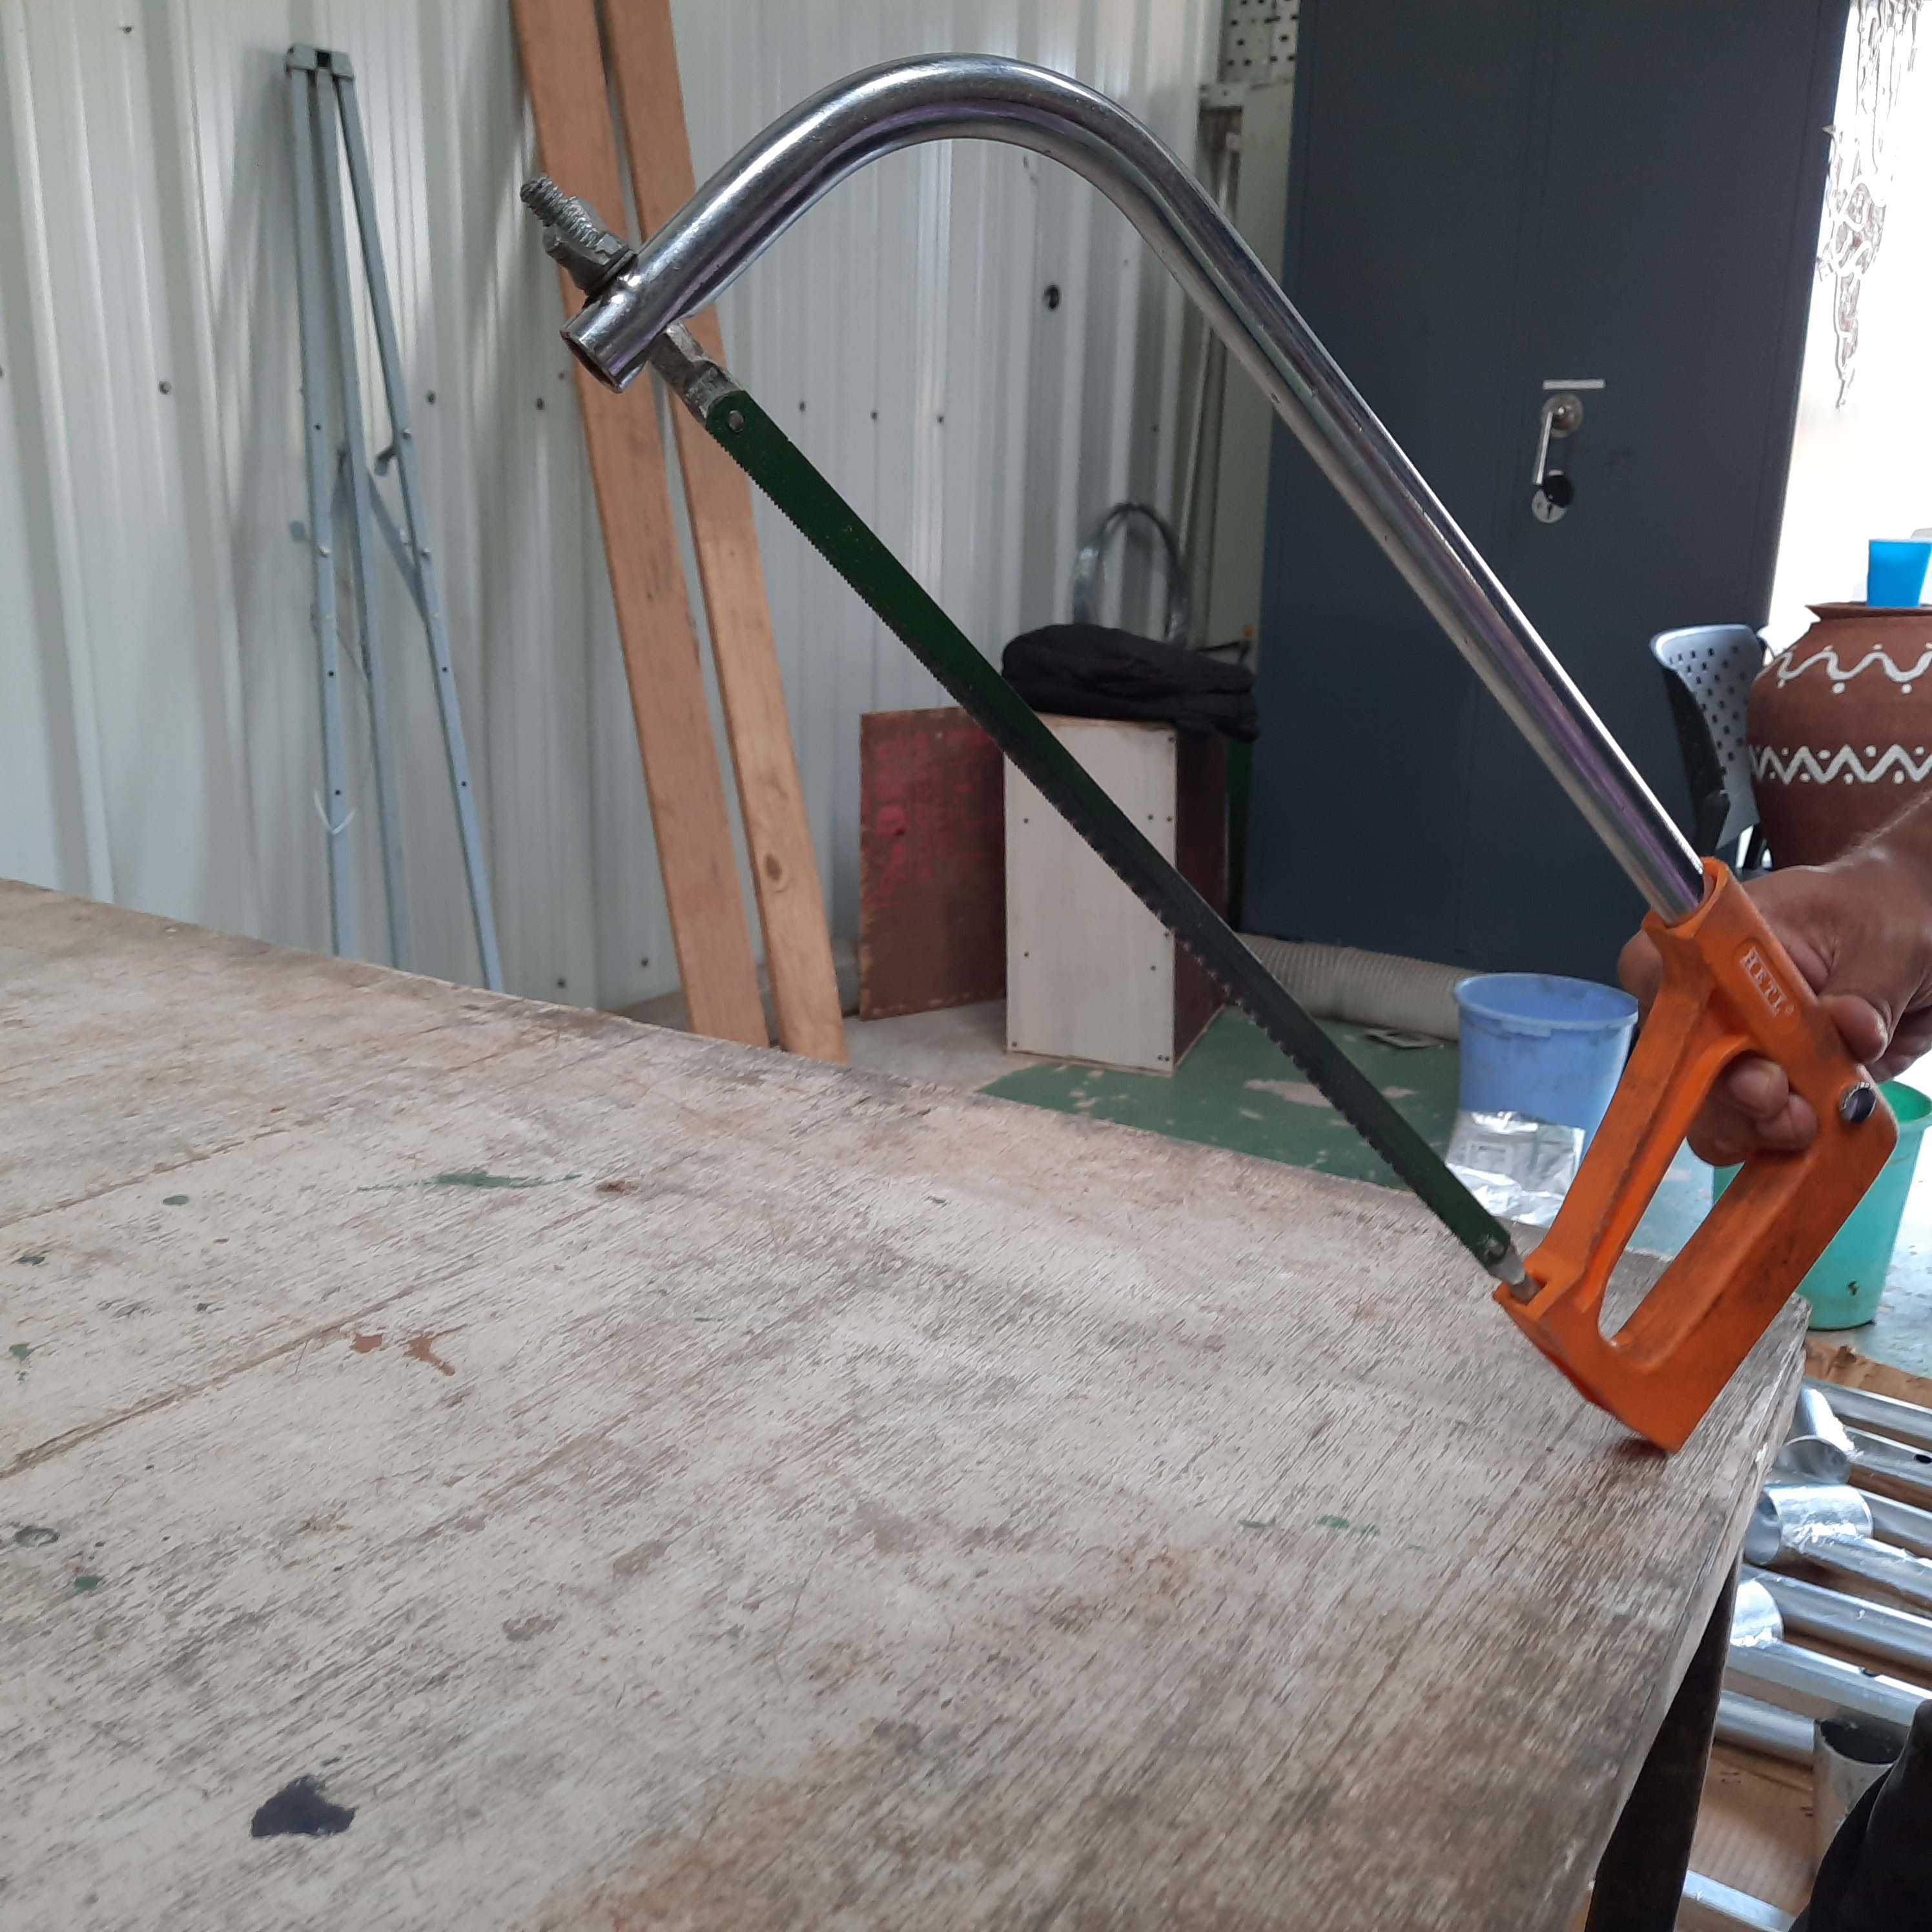Hexaframe: (494, 39, 1902, 1507)
